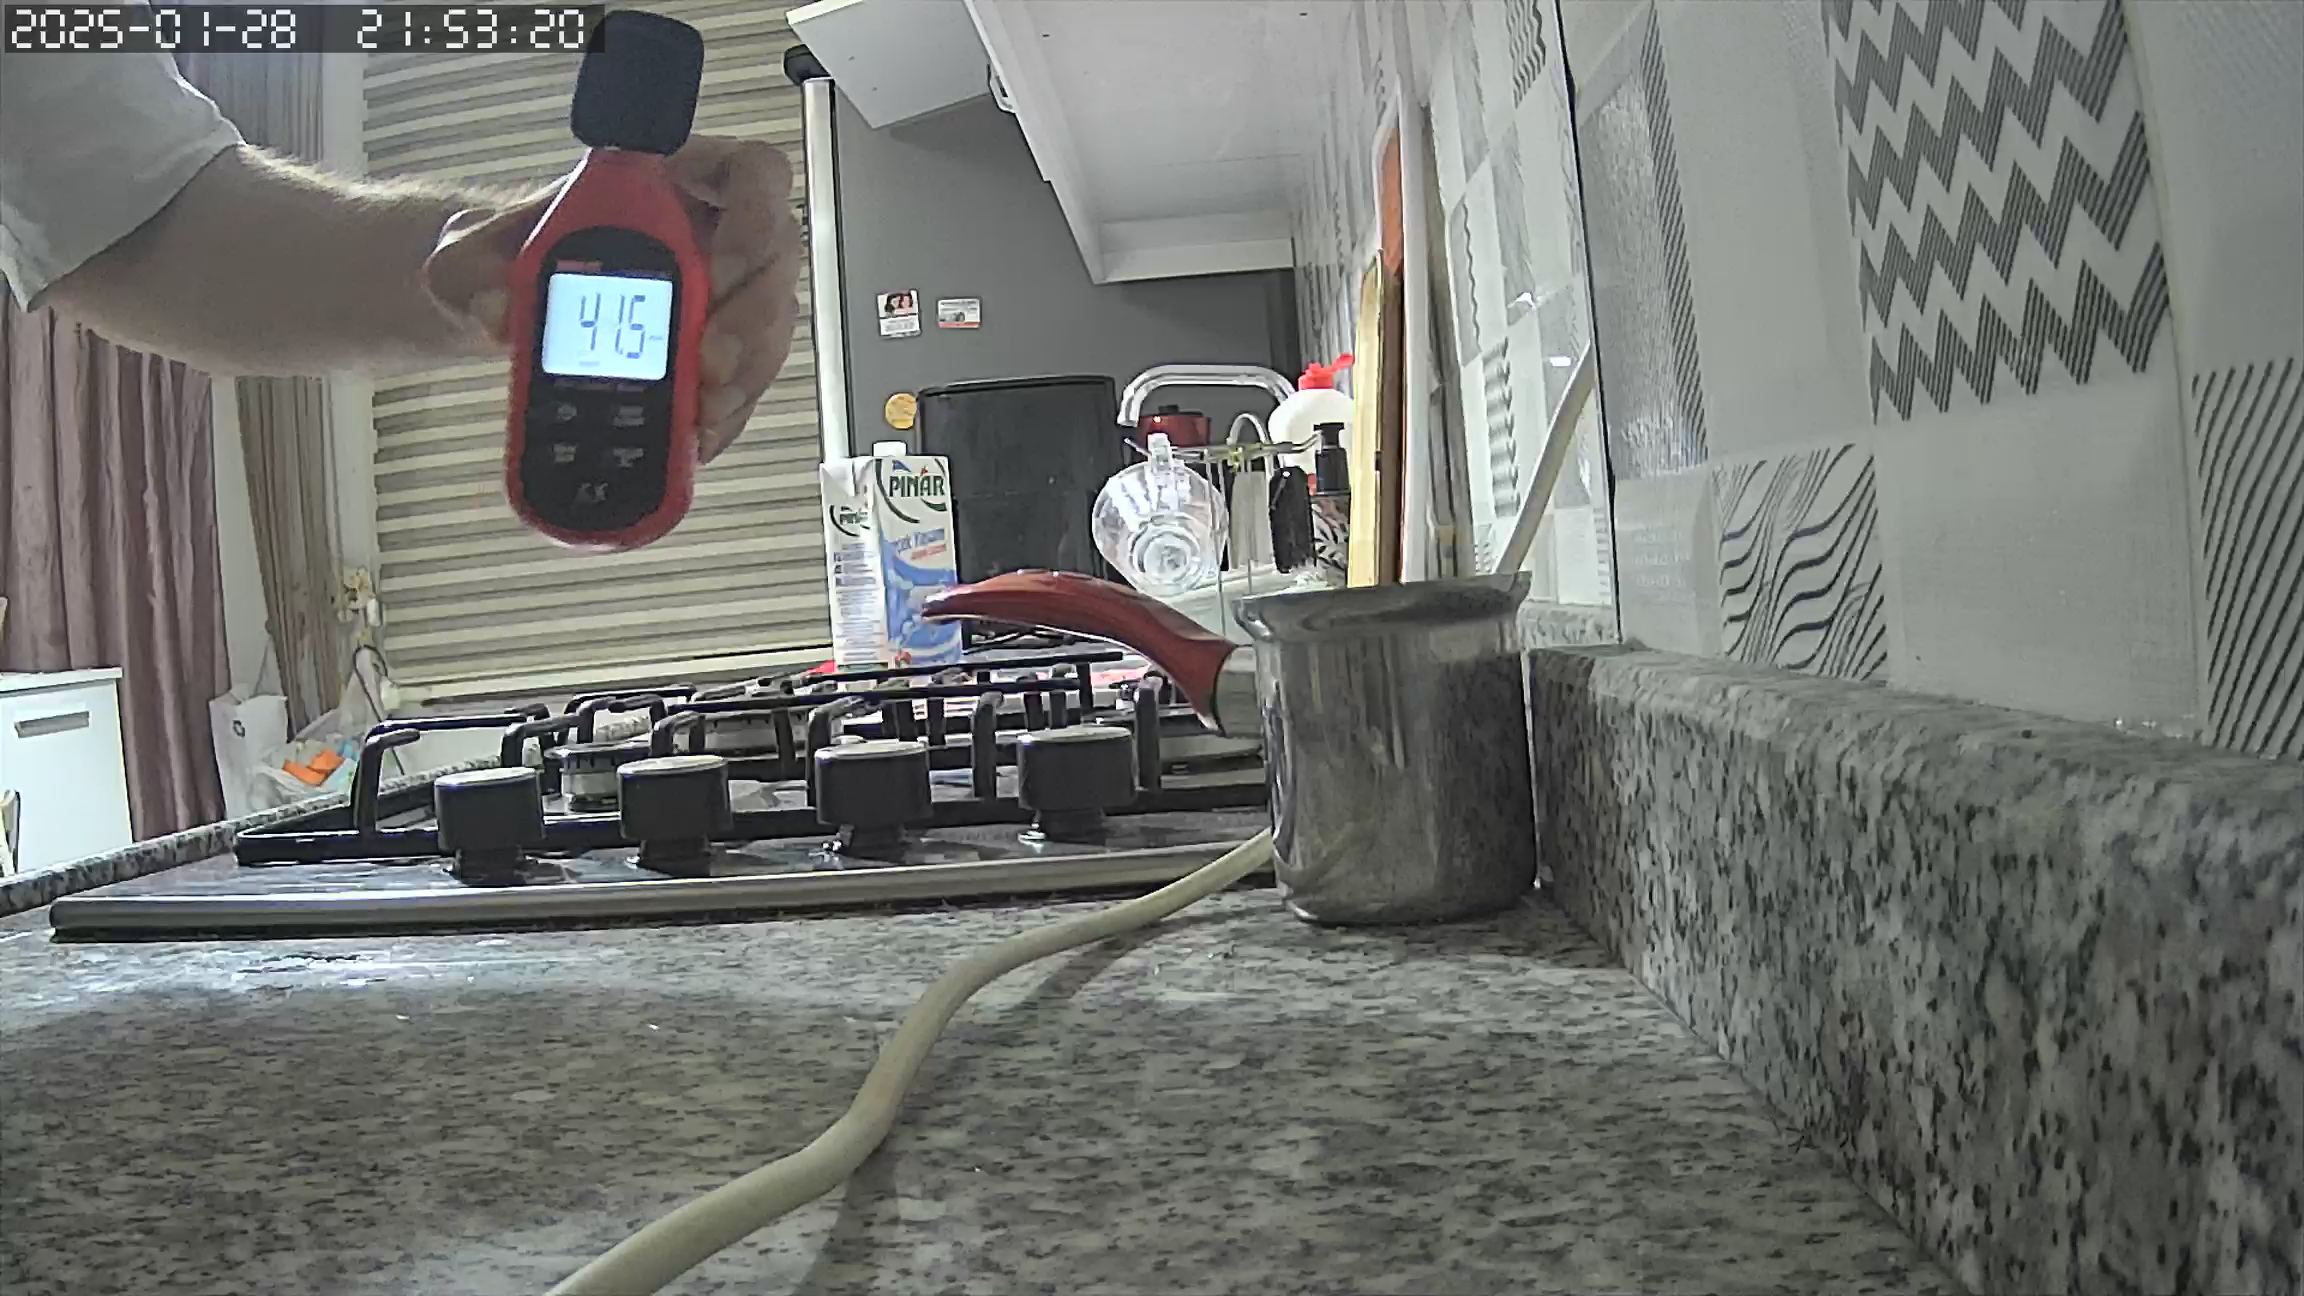screen: (538, 271, 674, 385)
